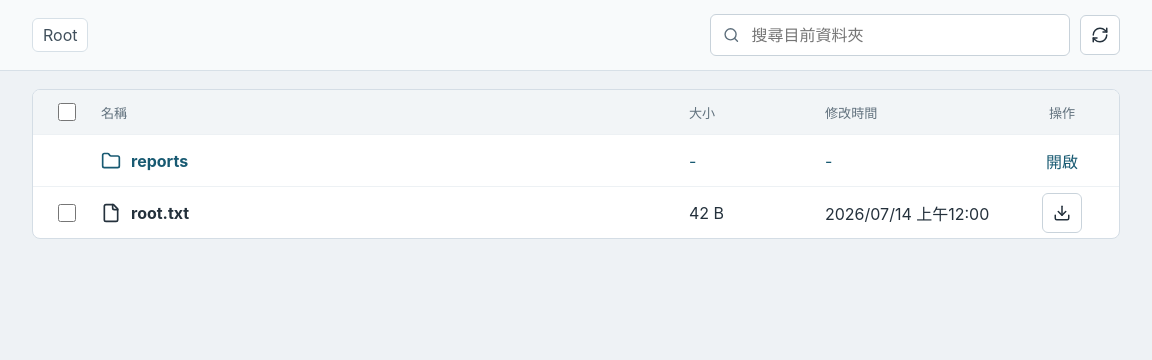
Test: DriveView batch downloads › clears selection on refresh and folder navigation and never selects folders
Click the checkbox named "選取 root.txt". click: {"x": 67, "y": 212}
box: [58, 204, 76, 222]
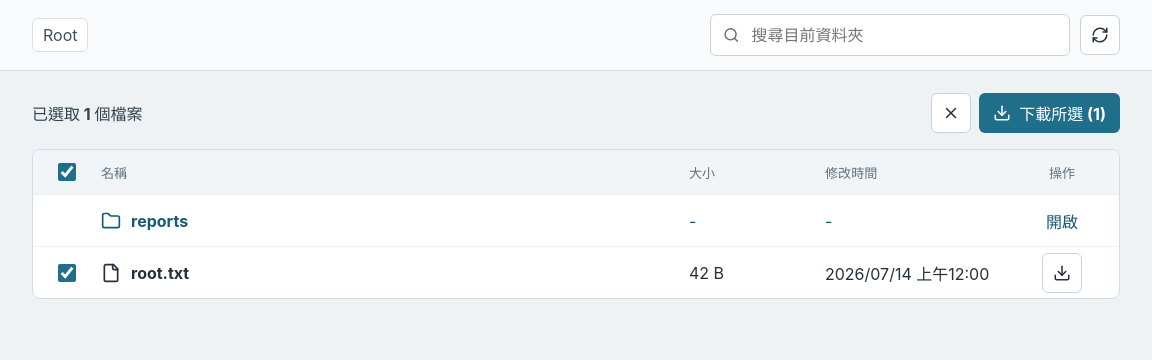
Click the button named "重新整理". click: {"x": 1100, "y": 35}
box: [1080, 15, 1120, 55]
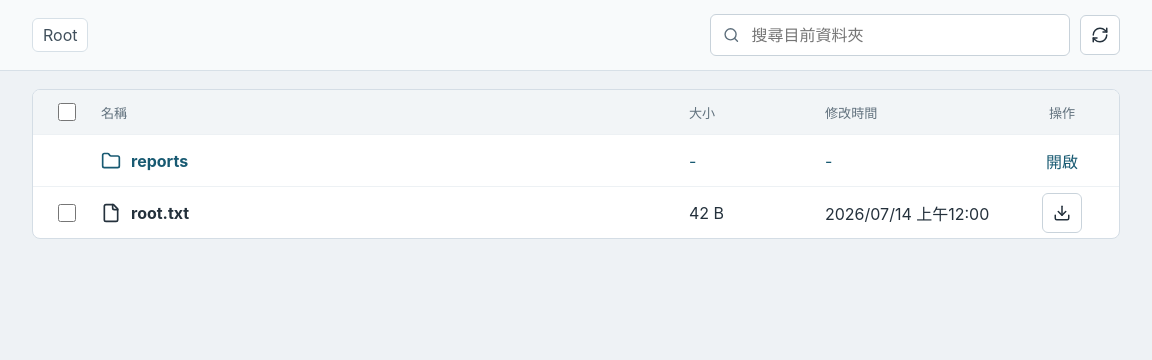
Expected: the button "下載所選 (1)" is gone
Click the checkbox named "選取 root.txt". click: {"x": 67, "y": 212}
box: [58, 204, 76, 222]
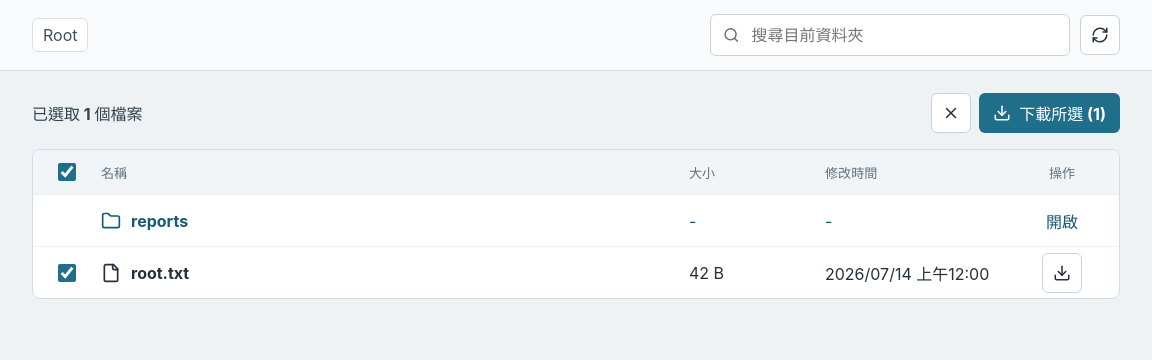
Click the text "reports". click: {"x": 145, "y": 220}
box: [101, 210, 188, 230]
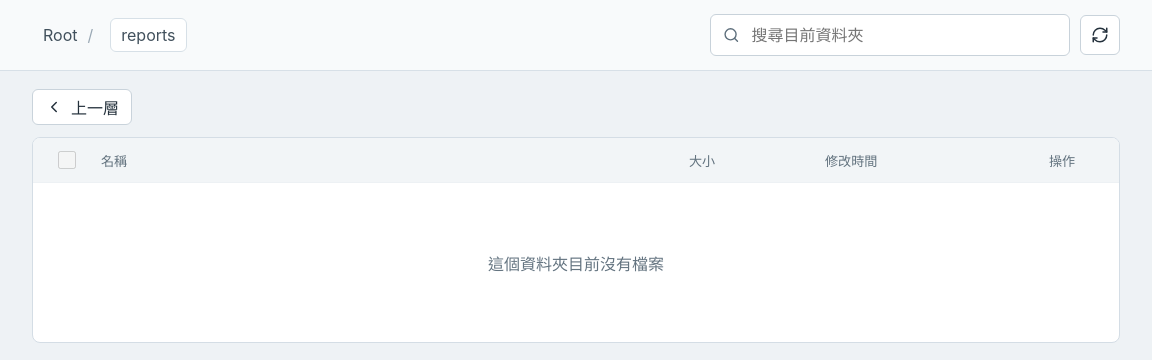
Expected: the button "下載所選 (1)" is gone
